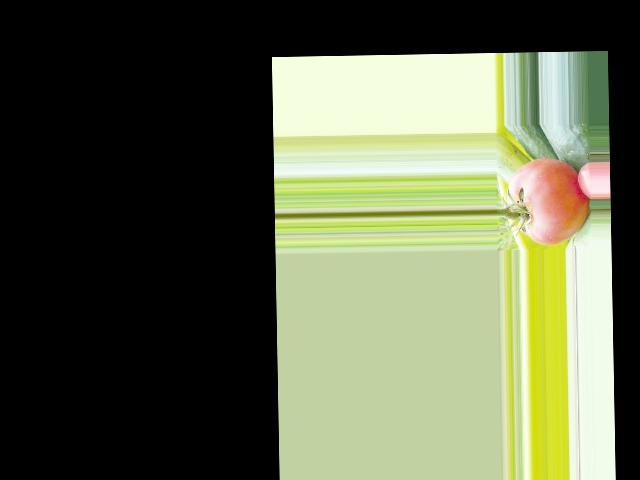tomato: (507, 157, 590, 245)
